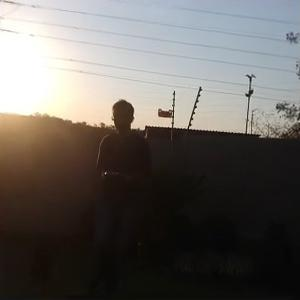follow: (96, 92, 158, 297)
